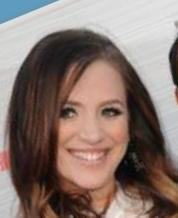face: (62, 99, 121, 171)
